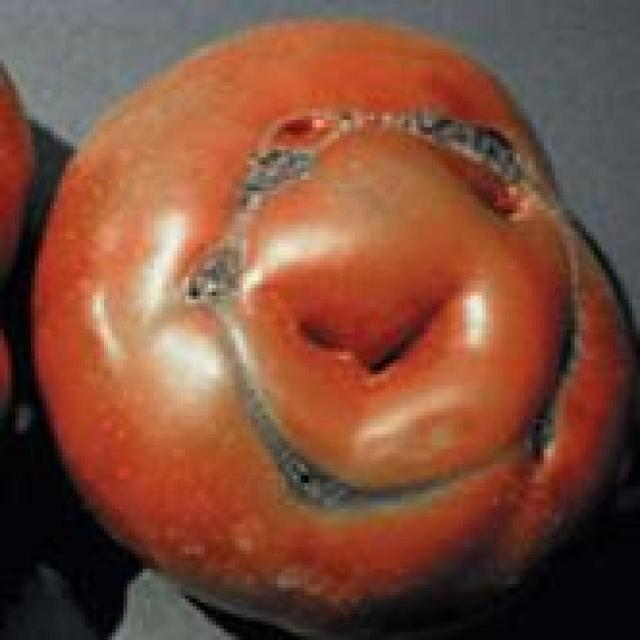Cracking Fruit: (232, 105, 289, 285)
